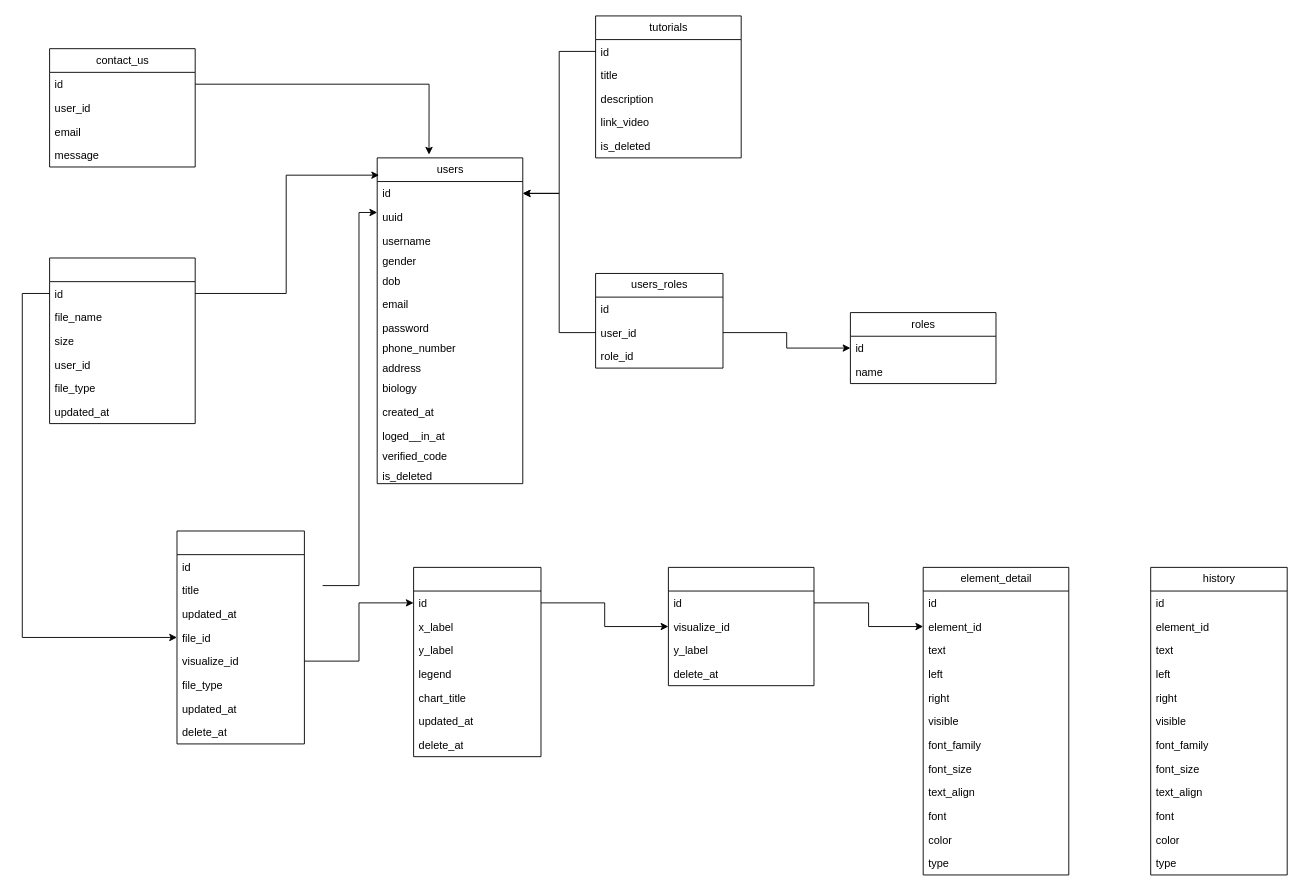
The diagram is 1303 pixels wide and 894 high, and some of its shapes have lost their labels. The shapes that lost their labels are listed below. From the top down, each one's box as (x1, y1, x2, y2) in pixels, then its label:
(49, 257, 195, 424): files
(176, 530, 304, 744): analysts
(667, 566, 814, 686): elements
(413, 566, 541, 757): visualizes
